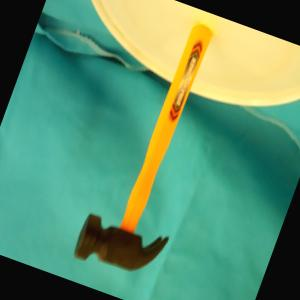martelo: (70, 6, 242, 286)
